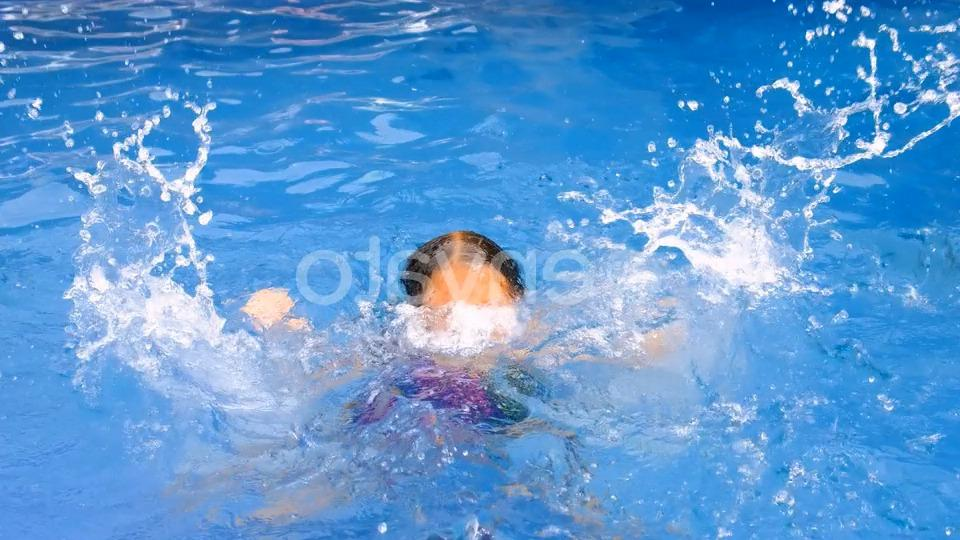Drowning: (153, 78, 739, 430)
